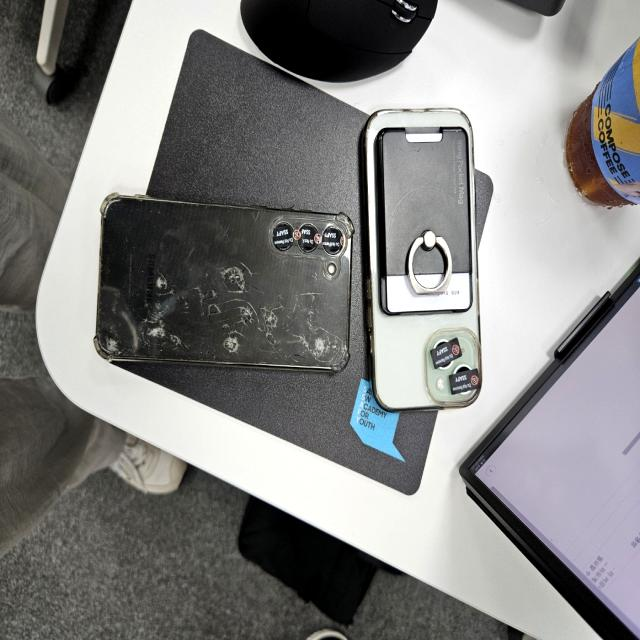phone: (94, 193, 354, 377), (361, 109, 483, 411)
sticker: (430, 338, 462, 366), (449, 368, 480, 395), (321, 225, 345, 256), (297, 224, 319, 250), (272, 224, 293, 250)
